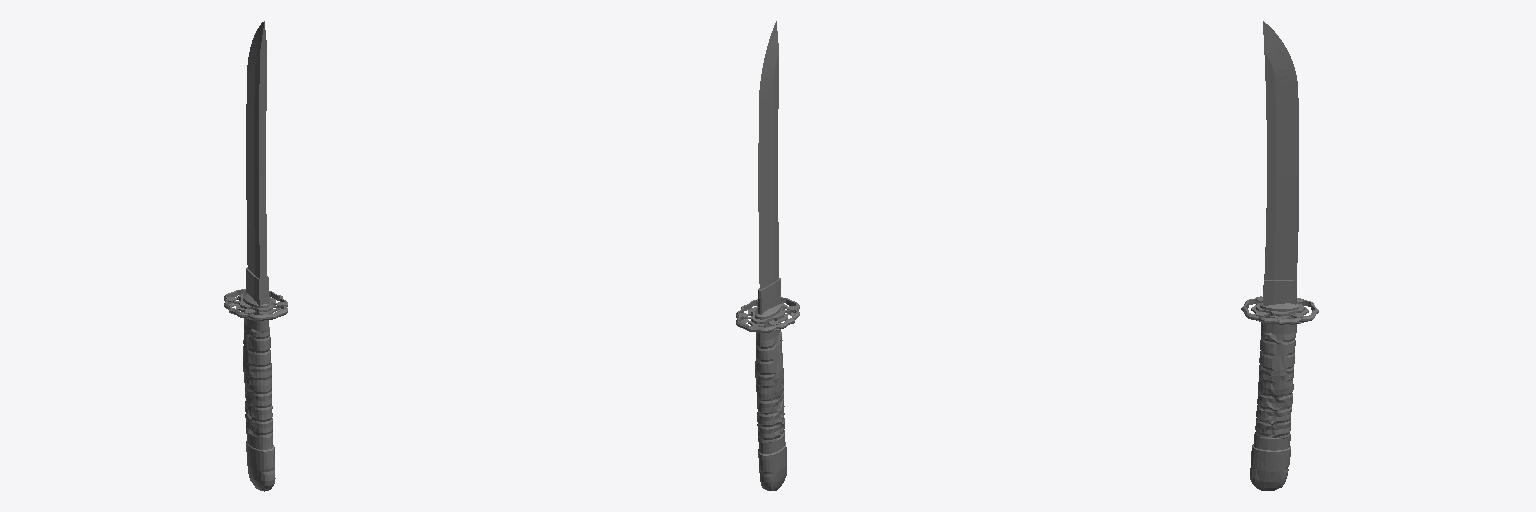
robot.urdf — object:
<?xml version="1.0"?>
<robot name="object">
  <link name="object">
    <visual>
      <origin xyz="0 0 0"/>
      <geometry>
        <mesh
          filename="../../mesh/oakink_virtual/knife_s318.stl" />
      </geometry>
      <material name="mat">
        <color rgba="0.5 0.5 0.5 1"/>
      </material>
    </visual>

    <collision>
      <origin xyz="0 0 0"/>
      <geometry>
        <mesh
          filename="../../mesh/oakink_virtual/knife_s318.stl" />
      </geometry>
    </collision>
  </link>
</robot>

--- Render facts (derived) ---
Views: 3 orthographic renders of the robot side by side, from view 1: azimuth 30°, elevation 25°; view 2: azimuth 150°, elevation 25°; view 3: azimuth 270°, elevation 25°.
Robot: object — 1 links, 0 joints (none); root link object; default pose: all joints at 0.
Visible links, largest first — view 1: object; view 2: object; view 3: object.
Boxes of the visible links, x1,y1,x2,y2 form: object: (224,21,287,491); object: (736,21,799,490); object: (1241,21,1318,490).
Size in the robot's own frame: 0.027 by 0.0333 by 0.2218 metres.
1 mesh visuals loaded from 1 distinct referenced files (1 binary STL).